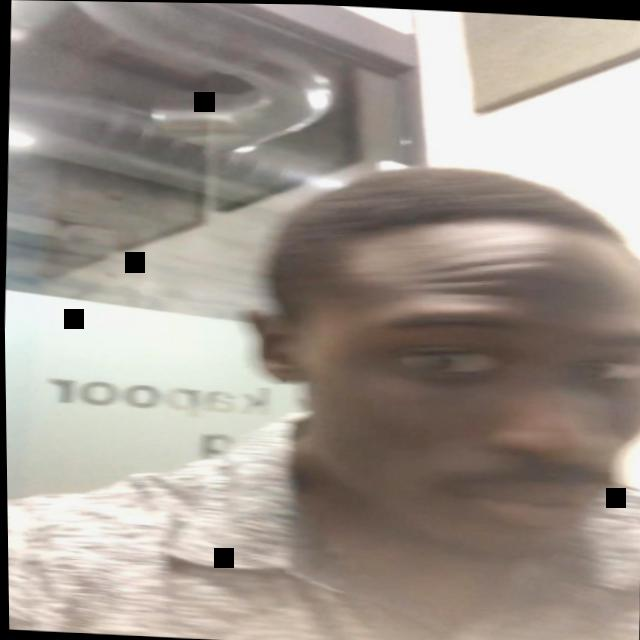NO-Mask: (274, 247, 640, 565)
